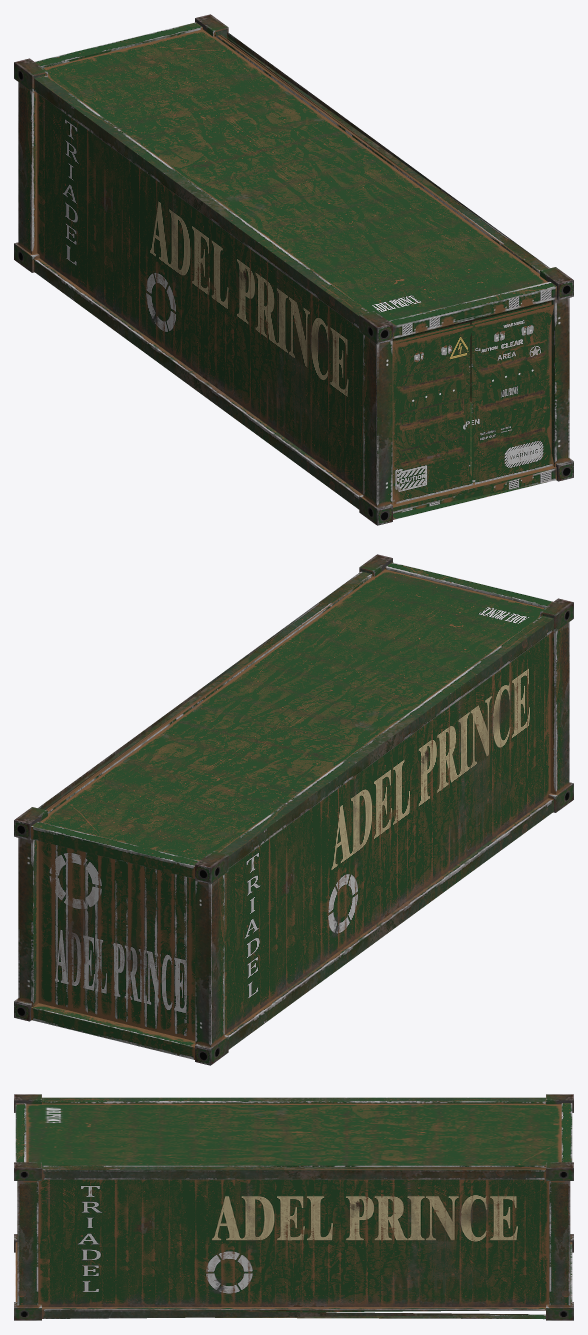
Rendered from container.glb.
The picture shows the model from 3 angles, top to bottom: view 1: azimuth 30°, elevation 25°; view 2: azimuth 150°, elevation 25°; view 3: azimuth 270°, elevation 25°; orthographic projection. The views are drawn at different scales.
Parts seen in each view (by area): view 1: Object002_Material #5_0; view 2: Object002_Material #5_0; view 3: Object002_Material #5_0.
Part boxes in pixels (x1,y1,x2,y2): Object002_Material #5_0: (14, 14, 573, 525); Object002_Material #5_0: (14, 554, 573, 1065); Object002_Material #5_0: (14, 1094, 573, 1320).
Size of the model in its own units: 2.5 by 2.4 by 8.
Materials: 1 (1 with a texture image).
